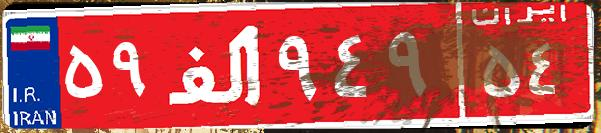4: (330, 28, 385, 110), (525, 38, 570, 115)
5: (57, 26, 110, 107), (475, 38, 525, 113)
9: (385, 28, 445, 110), (273, 28, 330, 110), (110, 28, 158, 105)
الف: (158, 15, 273, 115)
